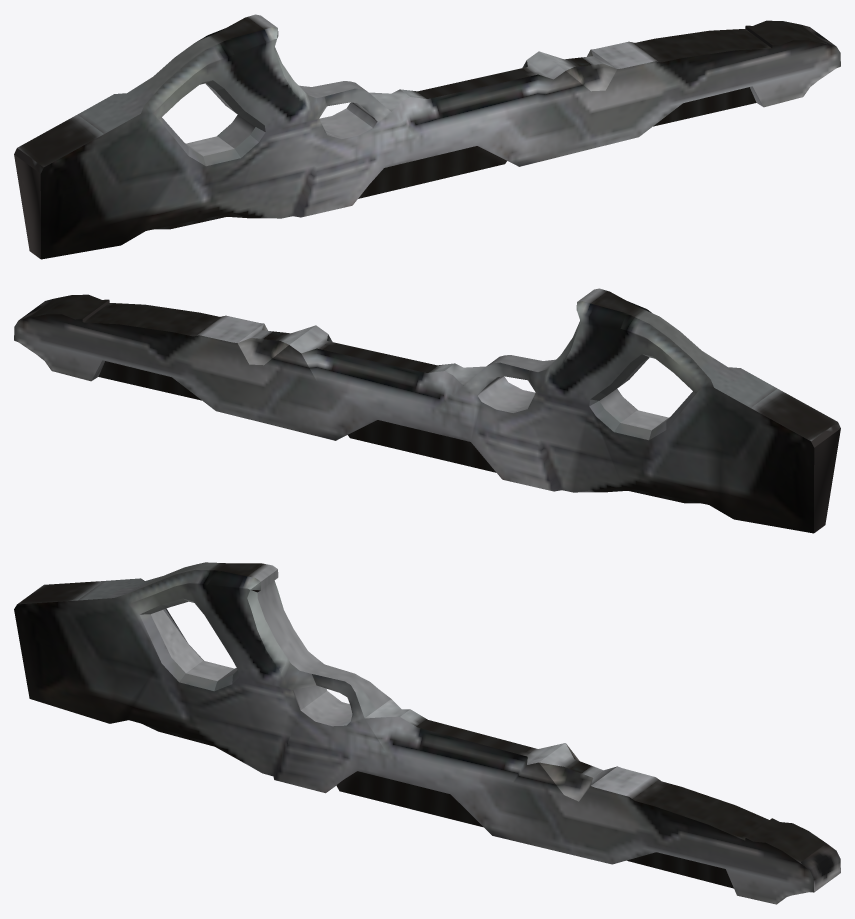
The model's file is phaser_rifle_item.obj.
The picture shows the model from 3 angles, top to bottom: view 1: azimuth 30°, elevation 25°; view 2: azimuth 150°, elevation 25°; view 3: azimuth 330°, elevation 25°; orthographic projection.
Parts seen in each view (by area): view 1: phaser_rifle; view 2: phaser_rifle; view 3: phaser_rifle.
Part boxes in pixels (x1=…): phaser_rifle: x1=14, y1=14, x2=840, y2=259; phaser_rifle: x1=14, y1=288, x2=840, y2=533; phaser_rifle: x1=14, y1=562, x2=840, y2=904.
Size of the model in its own units: 1.2 by 0.2802 by 0.0696.
